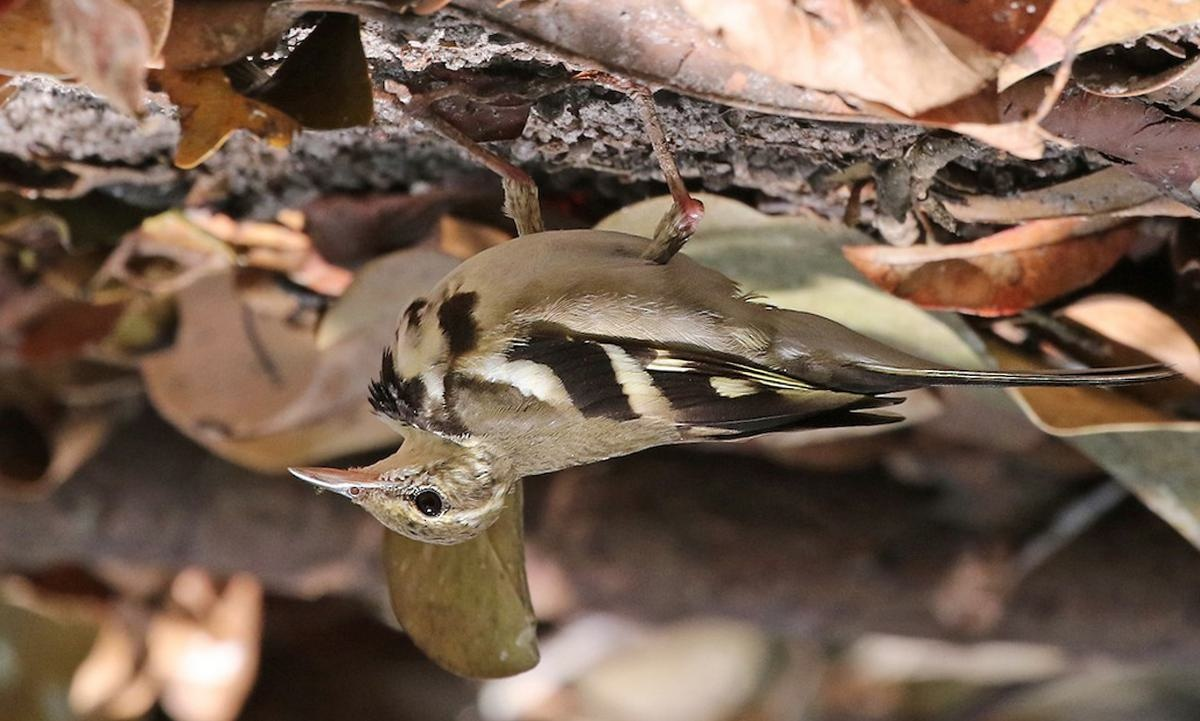wagtail: (284, 228, 941, 565)
